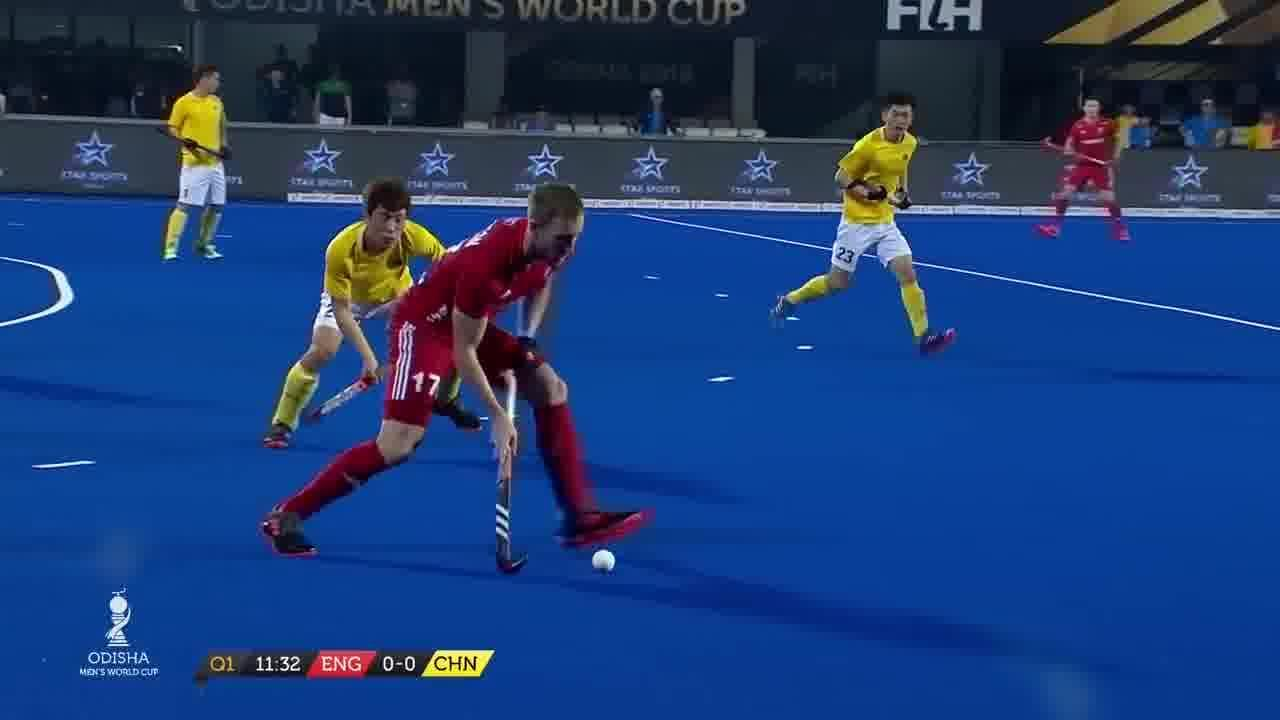ball: (586, 548, 620, 576)
